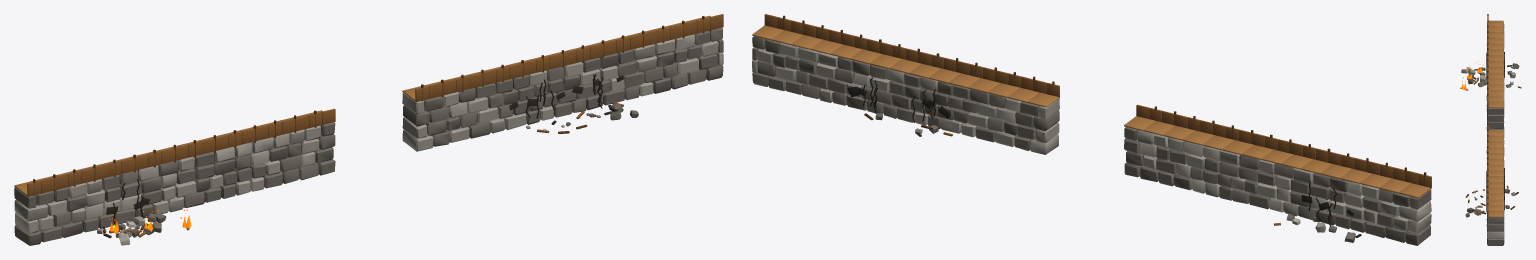
Rendered from mur_front_etap3.glb.
3 views of the same model, side by side, from view 1: azimuth 30°, elevation 25°; view 2: azimuth 150°, elevation 25°; view 3: azimuth 270°, elevation 25° (orthographic). The views are drawn at different scales.
Parts seen in each view (by area): view 1: mur_front_etap3; view 2: mur_front_etap3; view 3: mur_front_etap3.
Boxes of the visible parts, x1,y1,x2,y2 form: mur_front_etap3: (14, 14, 723, 245); mur_front_etap3: (752, 14, 1431, 245); mur_front_etap3: (1460, 14, 1521, 245).
Bounding box in the file's own units: 52.01 × 4.92 × 6.87.
